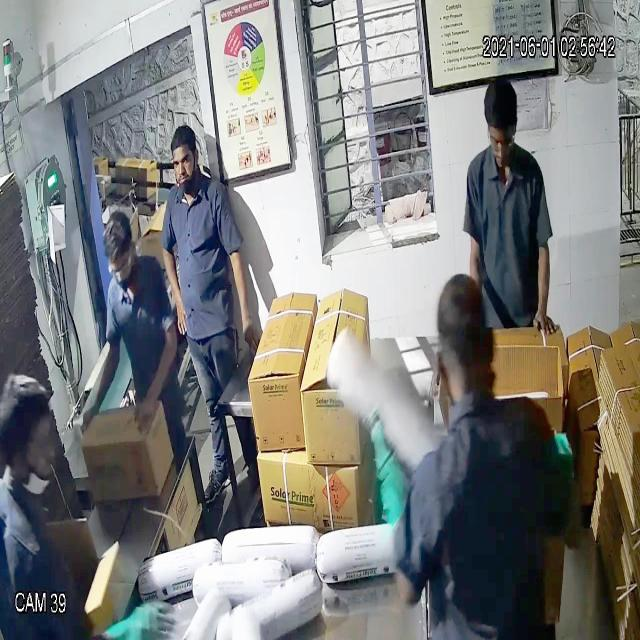glasses: (97, 246, 139, 289)
